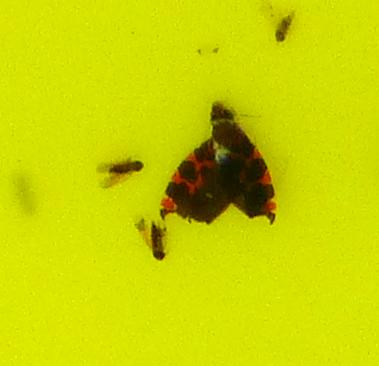Hemiptera: (154, 100, 279, 227), (100, 154, 150, 187), (138, 220, 168, 266)
